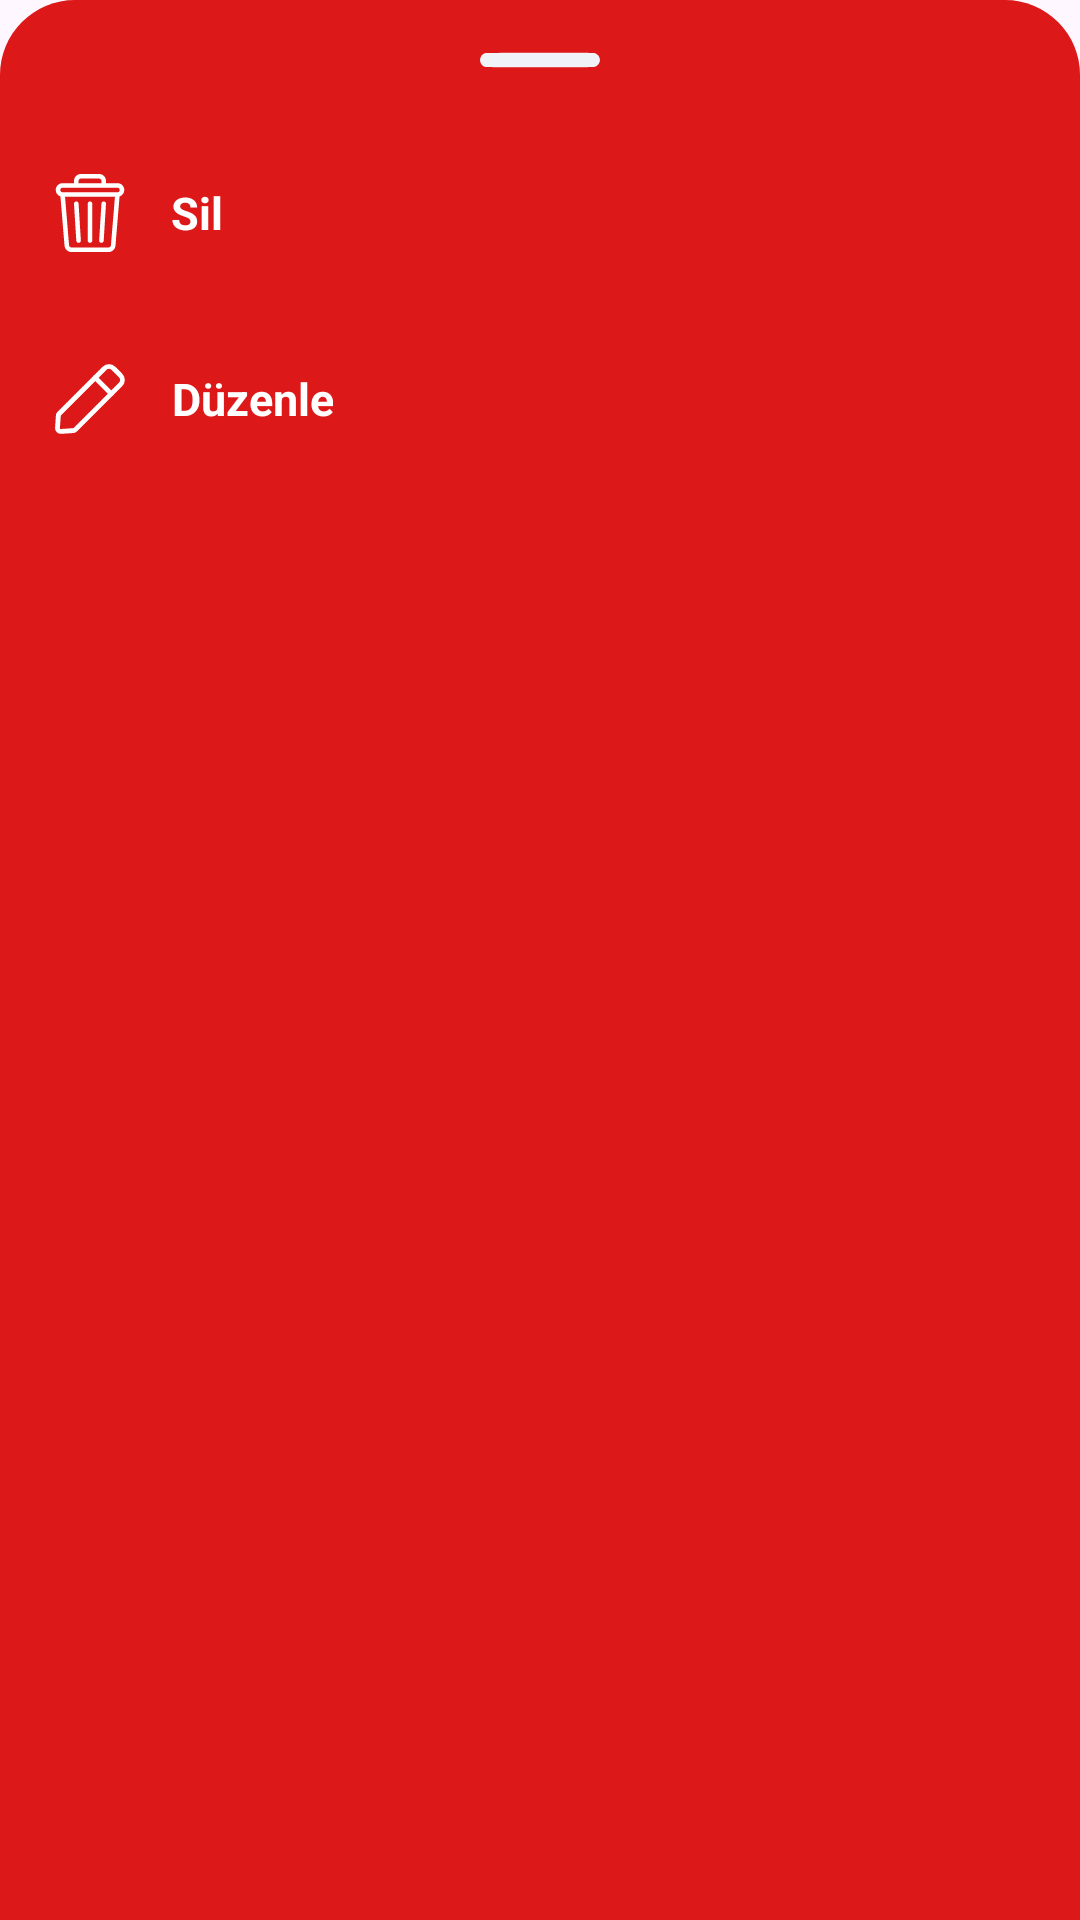

Named icons in this screenshot (1080px×1920px) and their bounding boxes, bbox=[x1, y1, x2, y2]:
delete: bbox=[55, 174, 125, 252]
edit: bbox=[55, 364, 125, 434]
